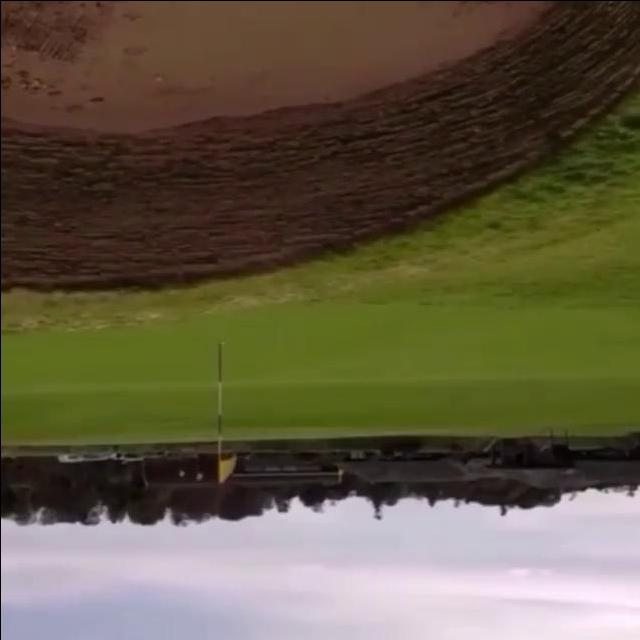golf ball: (220, 340, 223, 344)
